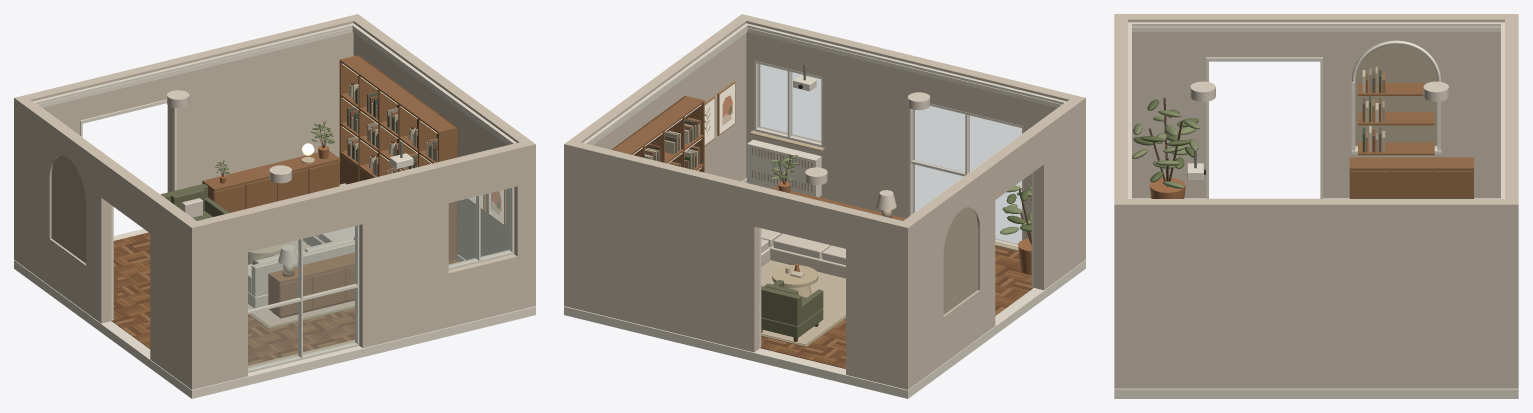
Rendered from sala-livre.glb.
3 views of the same model, side by side, from view 1: azimuth 30°, elevation 25°; view 2: azimuth 150°, elevation 25°; view 3: azimuth 270°, elevation 25° (orthographic). The views are drawn at different scales.
Parts seen in each view (by area): view 1: Parede front, Parede back, Parede left, Pavimento — tacos de madeira, Estante direita — 3,00 × 0,34 × 2,20 m, Parede right, Móvel sob a projeção, Aparador atrás do sofá — 2,30 × 0,35 m, Nicho em arco, Sofá em L — 2,70 × 1,95 m, Poltrona de linhas direitas — 0,78 × 0,78 m, Luminárias de teto e projetor (+4 smaller); view 2: Parede back, Parede front, Parede left, Parede right, Pavimento — tacos de madeira, Estante direita — 3,00 × 0,34 × 2,20 m, Nicho em arco, Poltrona de linhas direitas — 0,78 × 0,78 m, Grelha existente, Sofá em L — 2,70 × 1,95 m, Tapete, Planta (×2) (+4 smaller); view 3: Parede right, Parede left, Nicho em arco, Parede front, Parede back, Arrumação sob o nicho, Pavimento — tacos de madeira, Planta, Luminárias de teto e projetor.
Boxes of the visible parts, x1,y1,x2,y2 form: Parede front: [186, 140, 535, 389]; Parede back: [14, 14, 363, 263]; Parede left: [20, 99, 195, 385]; Pavimento — tacos de madeira: [14, 229, 535, 398]; Estante direita — 3,00 × 0,34 × 2,20 m: [339, 55, 458, 260]; Parede right: [351, 18, 529, 259]; Móvel sob a projeção: [202, 150, 340, 212]; Aparador atrás do sofá — 2,30 × 0,35 m: [268, 252, 354, 318]; Nicho em arco: [51, 155, 85, 263]; Sofá em L — 2,70 × 1,95 m: [248, 183, 354, 308]; Poltrona de linhas direitas — 0,78 × 0,78 m: [160, 183, 229, 220]; Luminárias de teto e projetor: [167, 90, 413, 183]; Parede back: [564, 140, 913, 389]; Parede front: [736, 14, 1085, 263]; Parede left: [904, 99, 1079, 385]; Parede right: [570, 18, 748, 181]; Pavimento — tacos de madeira: [564, 183, 1085, 398]; Estante direita — 3,00 × 0,34 × 2,20 m: [611, 95, 704, 172]; Nicho em arco: [943, 207, 977, 314]; Poltrona de linhas direitas — 0,78 × 0,78 m: [761, 279, 823, 341]; Grelha existente: [747, 139, 821, 197]; Sofá em L — 2,70 × 1,95 m: [761, 228, 845, 278]; Tapete: [761, 260, 845, 347]; Planta (×2): [770, 154, 1031, 274]; Parede right: [1128, 199, 1504, 388]; Parede left: [1128, 14, 1504, 198]; Nicho em arco: [1351, 40, 1441, 155]; Parede front: [1114, 14, 1131, 388]; Parede back: [1501, 14, 1518, 388]; Arrumação sob o nicho: [1349, 157, 1473, 198]; Pavimento — tacos de madeira: [1114, 198, 1518, 398]; Planta: [1132, 97, 1199, 198]; Luminárias de teto e projetor: [1187, 81, 1448, 180].
Size of the model in its own units: 6 by 2.85 by 5.38.
